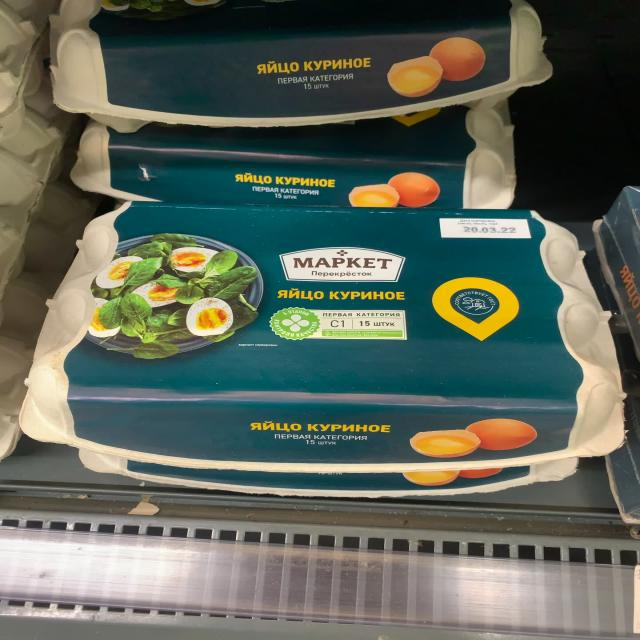egg box: (5, 195, 638, 514), (44, 8, 565, 128), (57, 123, 572, 221)
